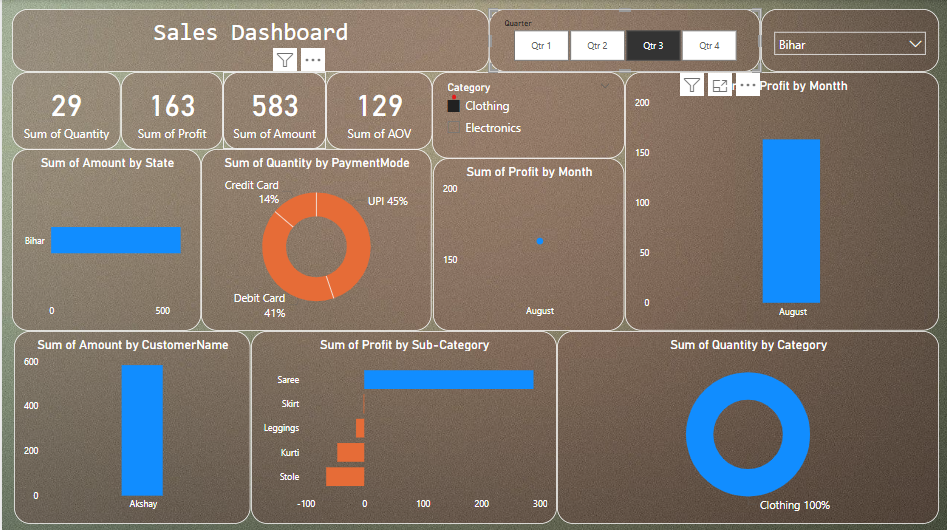

The page's visual inventory and layout, read from the dashboard file:
{"tool":"powerbi","page":{"name":"Page 1","canvas":[1280,720],"ordinal":0},"visuals":[{"type":"textbox","box":[13.6,12.1,646.1,84.9],"z":0},{"type":"columnChart","title":"Sum of Profit by Montth","fields":{"Y":["Sum(Details.Profit)"],"Category":["Orders.Order Date.Variation.Date Hierarchy.Month"]},"box":[843.2,97.1,424.6,350.3],"z":1000},{"type":"barChart","fields":{"Category":["Details.Sub-Category"],"Y":["Sum(Details.Profit)"]},"box":[336.7,447.4,414,260.9],"z":2000},{"type":"donutChart","fields":{"Y":["Sum(Details.Quantity)"],"Category":["Details.Category"]},"box":[750.7,447.4,517.2,260.9],"z":3000},{"type":"donutChart","fields":{"Y":["Sum(Details.Quantity)"],"Category":["Details.PaymentMode"]},"box":[270,201.7,312.4,245.7],"z":4000},{"type":"card","fields":{"Values":["Sum(Details.Quantity)"]},"box":[13.6,97.1,147.1,104.6],"z":5000},{"type":"card","fields":{"Values":["Sum(Details.Amount)"]},"box":[298.8,97.1,139.5,104.6],"z":6000},{"type":"card","fields":{"Values":["Sum(Details.Profit)"]},"box":[160.8,97.1,138,104.6],"z":7000},{"type":"card","fields":{"Values":["Sum(Details.AOV)"]},"box":[438.3,97.1,144.1,104.6],"z":8000},{"type":"barChart","fields":{"Category":["Orders.State"],"Y":["Sum(Details.Amount)"]},"box":[13.6,201.7,256.3,245.7],"z":9000},{"type":"columnChart","fields":{"Category":["Orders.CustomerName"],"Y":["Sum(Details.Amount)"]},"box":[16.7,447.4,320,260.9],"z":10000},{"type":"slicer","fields":{"Values":["Orders.Order Date.Variation.Date Hierarchy.Quarter"]},"box":[659.7,12.1,367,84.9],"z":11000},{"type":"slicer","fields":{"Values":["Orders.State"]},"box":[1026.7,12.1,241.1,84.9],"z":12000},{"type":"slicer","fields":{"Values":["Elements.Category"]},"box":[582.4,97.1,260.9,116.8],"z":12001},{"type":"lineChart","fields":{"Category":["Directives.Order Date.Variation.Date Hierarchy.Month"],"Y":["Sum(Elements.Profit)"]},"box":[583.9,213.8,259.3,233.6],"z":12002}]}

Visuals, with their boxes in screenshot pixels (x1, y1, x2, y2), scaled from the page's 1280x720 canvas onto the 947x530 screenshot:
textbox: x1=10, y1=9, x2=488, y2=71
"Sum of Profit by Montth" columnChart: x1=624, y1=71, x2=938, y2=329
barChart - Details.Sub-Category x Sum(Details.Profit): x1=249, y1=329, x2=555, y2=521
donutChart - Sum(Details.Quantity) x Details.Category: x1=555, y1=329, x2=938, y2=521
donutChart - Sum(Details.Quantity) x Details.PaymentMode: x1=200, y1=148, x2=431, y2=329
card - Sum(Details.Quantity): x1=10, y1=71, x2=119, y2=148
card - Sum(Details.Amount): x1=221, y1=71, x2=324, y2=148
card - Sum(Details.Profit): x1=119, y1=71, x2=221, y2=148
card - Sum(Details.AOV): x1=324, y1=71, x2=431, y2=148
barChart - Orders.State x Sum(Details.Amount): x1=10, y1=148, x2=200, y2=329
columnChart - Orders.CustomerName x Sum(Details.Amount): x1=12, y1=329, x2=249, y2=521
slicer - Orders.Order Date.Variation.Date Hierarchy.Quarter: x1=488, y1=9, x2=760, y2=71
slicer - Orders.State: x1=760, y1=9, x2=938, y2=71
slicer - Elements.Category: x1=431, y1=71, x2=624, y2=157
lineChart - Directives.Order Date.Variation.Date Hierarchy.Month x Sum(Elements.Profit): x1=432, y1=157, x2=624, y2=329
